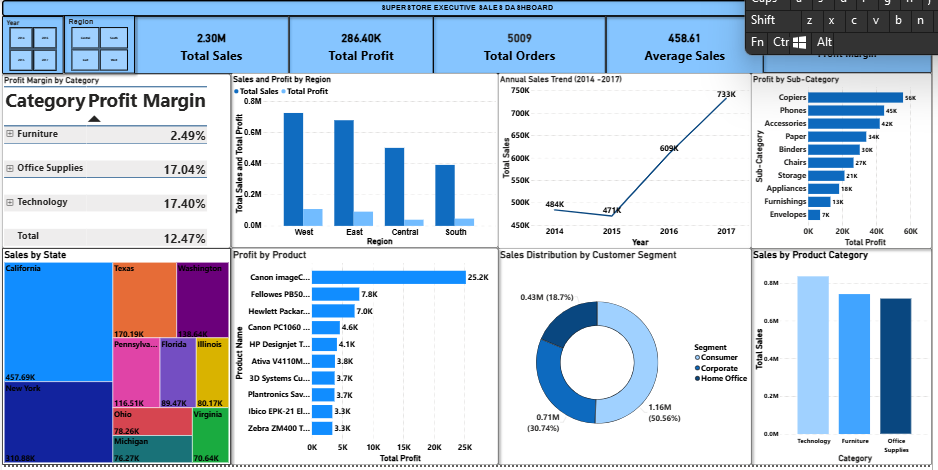

Layout of this report page (visuals, bound fields, positions):
{"tool":"powerbi","page":{"name":"Superstore Dashboard","canvas":[3000,1500],"ordinal":0},"visuals":[{"type":"card","fields":{"Values":["Sample - Superstore.Total Sales"]},"box":[569.5,68.5,413.9,249],"z":0},{"type":"card","fields":{"Values":["Sample - Superstore.Total Profit"]},"box":[983.4,71.6,423.2,249],"z":1000},{"type":"card","fields":{"Values":["Sample - Superstore.Total Orders"]},"box":[1406.6,71.6,491.7,249],"z":2000},{"type":"card","fields":{"Values":["Sample - Superstore.Average Sales"]},"box":[1898.3,65.4,535.3,252.1],"z":3000},{"type":"card","fields":{"Values":["Sample - Superstore.Profit Margin"]},"box":[2433.6,68.5,566.4,252.1],"z":4000},{"type":"clusteredColumnChart","title":"Sales and Profit by Region","fields":{"Category":["Sample - Superstore.Region"],"Y":["Sample - Superstore.Total Sales","Sample - Superstore.Total Profit"]},"box":[603.7,317.4,802.9,563.3],"z":5000},{"type":"clusteredColumnChart","title":"Sales by Product Category","fields":{"Category":["Sample - Superstore.Category"],"Y":["Sample - Superstore.Total Sales"]},"box":[2271.8,880.7,728.2,619.3],"z":6000},{"type":"lineChart","title":"Annual Sales Trend (2014 -2017)","fields":{"Y":["Sample - Superstore.Total Sales"],"Category":["Sample - Superstore.Order Date.Variation.Date Hierarchy.Year"]},"box":[1406.6,317.4,862,563.3],"z":7000},{"type":"donutChart","title":"Sales Distribution by Customer Segment","fields":{"Category":["Sample - Superstore.Segment"],"Y":["Sample - Superstore.Total Sales"]},"box":[1406.6,880.7,865.1,619.3],"z":8000},{"type":"pivotTable","title":"Profit Margin by Category","fields":{"Rows":["Sample - Superstore.Category","Sample - Superstore.Sub-Category"],"Values":["Sample - Superstore.Profit Margin"]},"box":[0,317.4,603.7,563.3],"z":9000},{"type":"textbox","box":[0,0,3000,68.5],"z":10000},{"type":"clusteredBarChart","title":"Profit by Product","fields":{"Category":["Sample - Superstore.Product Name"],"Y":["Sample - Superstore.Total Profit"]},"box":[603.7,880.7,802.9,619.3],"z":11000},{"type":"clusteredBarChart","title":"Profit by Sub-Category","fields":{"Category":["Sample - Superstore.Sub-Category"],"Y":["Sample - Superstore.Total Profit"]},"box":[2271.8,317.4,728.2,563.3],"z":12000},{"type":"slicer","fields":{"Values":["Sample - Superstore.Order Date.Variation.Date Hierarchy.Year"]},"box":[0,68.5,264.5,249],"z":13000},{"type":"slicer","fields":{"Values":["Sample - Superstore.Region"]},"box":[264.5,65.4,305,252.1],"z":14000},{"type":"clusteredColumnChart","title":"Sales by State","fields":{"Category":["Sample - Superstore.State"],"Y":["Sample - Superstore.Total Sales"]},"box":[0,880.7,603.7,619.3],"z":15000}]}

Visuals, with their boxes on the page's 3000x1500 design canvas (x1, y1, x2, y2). These are canvas units, not pixel positions in the 938x470 screenshot, which may show the page scaled, cropped or inside an application window:
card - Sample - Superstore.Total Sales: x1=570, y1=68, x2=983, y2=318
card - Sample - Superstore.Total Profit: x1=983, y1=72, x2=1407, y2=321
card - Sample - Superstore.Total Orders: x1=1407, y1=72, x2=1898, y2=321
card - Sample - Superstore.Average Sales: x1=1898, y1=65, x2=2434, y2=318
card - Sample - Superstore.Profit Margin: x1=2434, y1=68, x2=3000, y2=321
"Sales and Profit by Region" clusteredColumnChart: x1=604, y1=317, x2=1407, y2=881
"Sales by Product Category" clusteredColumnChart: x1=2272, y1=881, x2=3000, y2=1500
"Annual Sales Trend (2014 -2017)" lineChart: x1=1407, y1=317, x2=2269, y2=881
"Sales Distribution by Customer Segment" donutChart: x1=1407, y1=881, x2=2272, y2=1500
"Profit Margin by Category" pivotTable: x1=0, y1=317, x2=604, y2=881
textbox: x1=0, y1=0, x2=3000, y2=68
"Profit by Product" clusteredBarChart: x1=604, y1=881, x2=1407, y2=1500
"Profit by Sub-Category" clusteredBarChart: x1=2272, y1=317, x2=3000, y2=881
slicer - Sample - Superstore.Order Date.Variation.Date Hierarchy.Year: x1=0, y1=68, x2=264, y2=318
slicer - Sample - Superstore.Region: x1=264, y1=65, x2=570, y2=318
"Sales by State" clusteredColumnChart: x1=0, y1=881, x2=604, y2=1500
